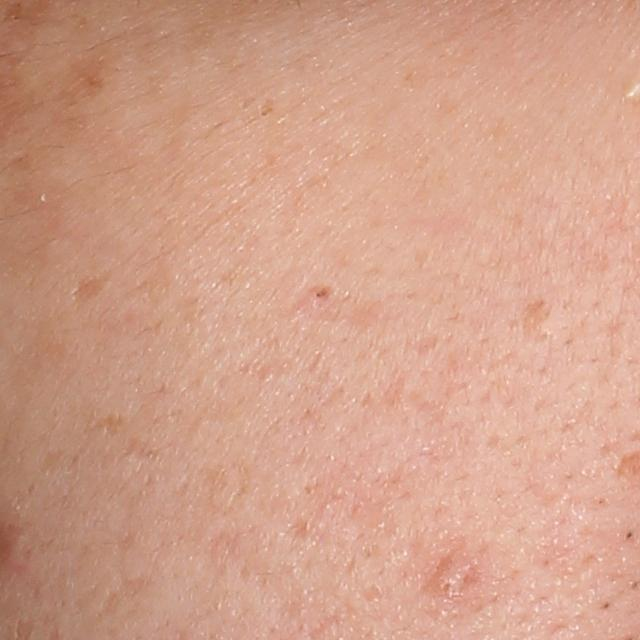atrophic_scar: (59, 266, 116, 308), (520, 299, 554, 347)
